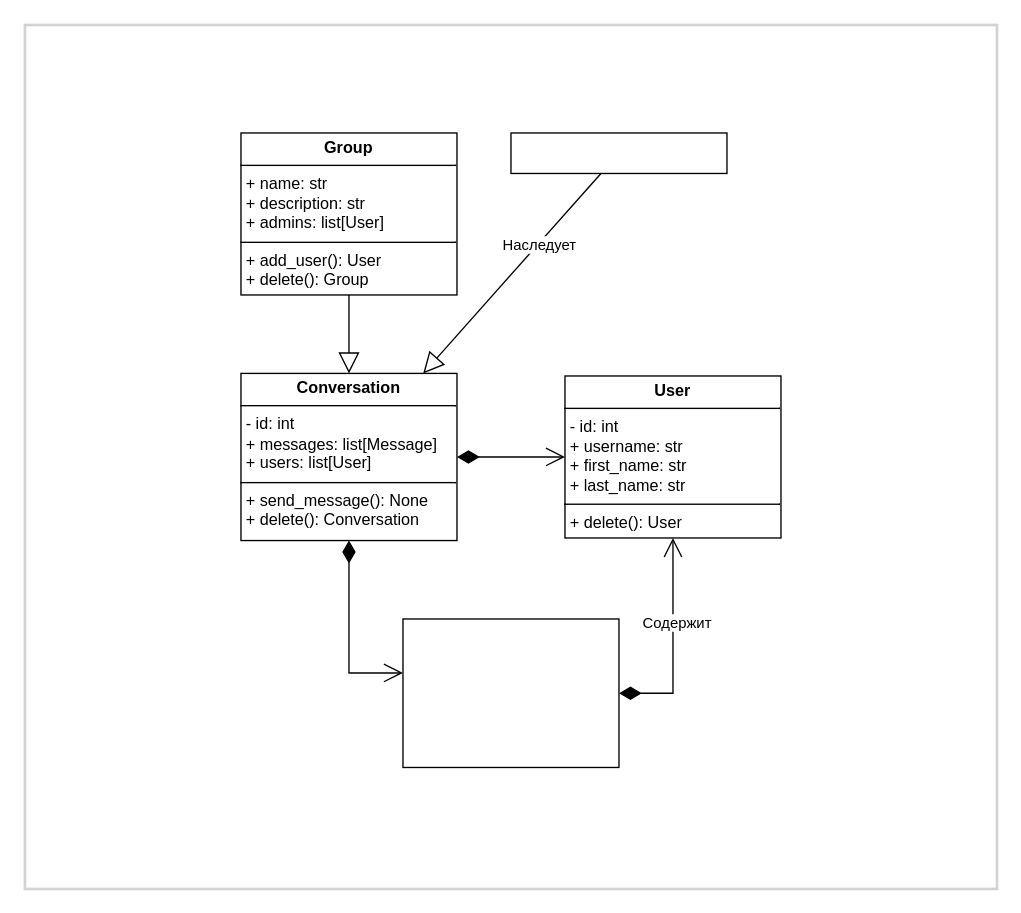
This 1021x913 diagram has some shape labels left out. Each missing label, with the box of its shape:
Chat: (510, 132, 727, 173)
Message - id: int + author: User + content: str + delete(): Message: (402, 618, 619, 767)
